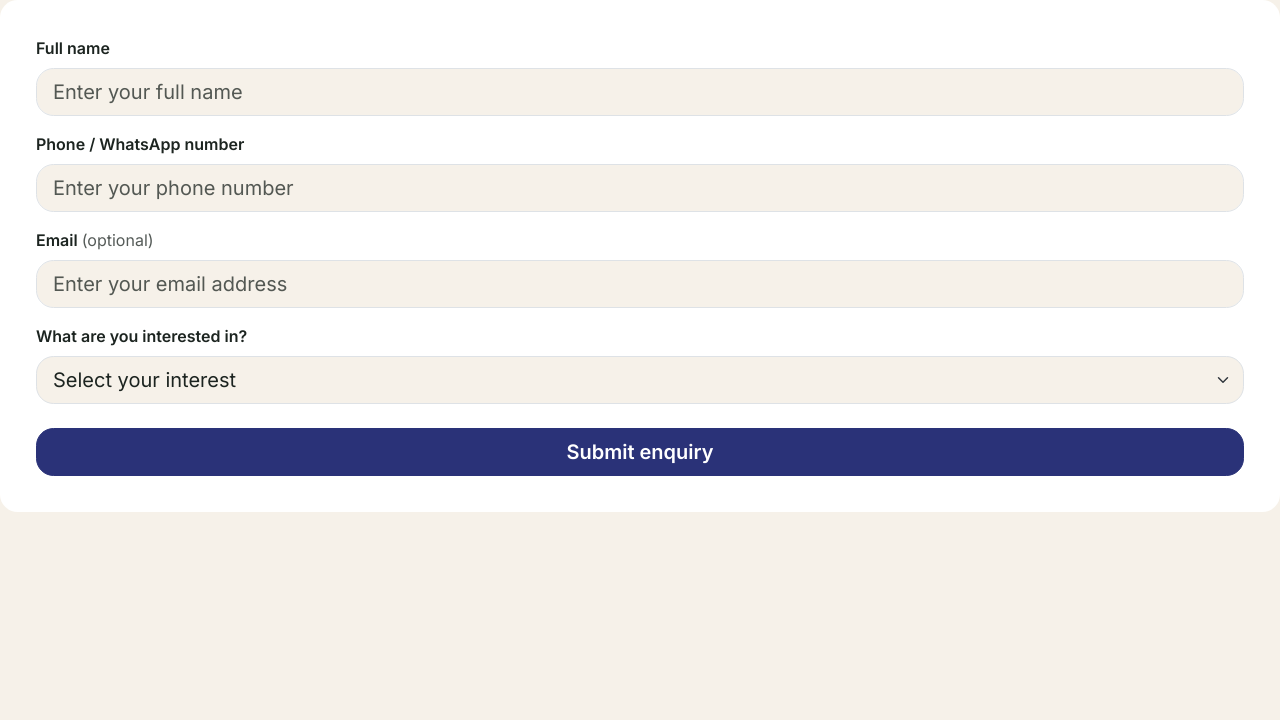
it: EnquiryForm › shows validation errors and does not submit invalid data
Click the button "Submit enquiry": [640, 452] box top-left (36, 428), bottom-right (1244, 476)
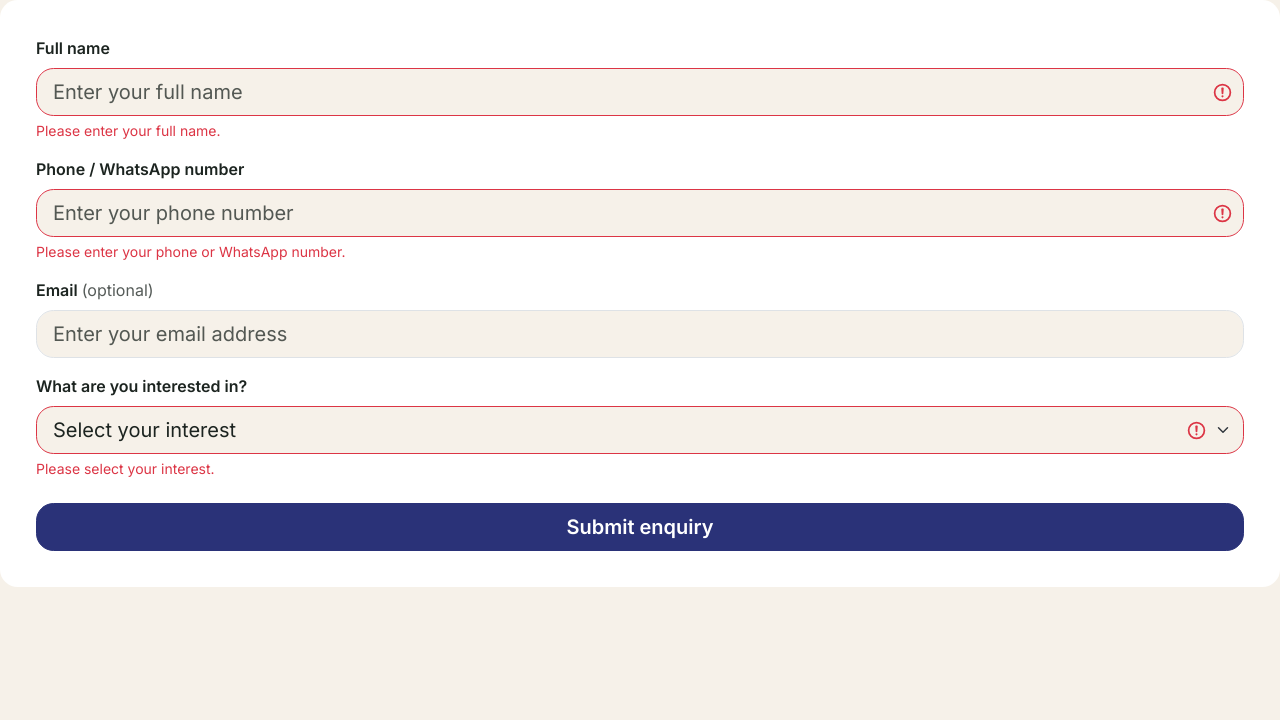
expect the text "Please enter your full name." is shown: met, box top-left (36, 122), bottom-right (220, 139)
expect the text "Please enter your phone or WhatsApp number." is shown: met, box top-left (36, 243), bottom-right (345, 260)
expect the text "Please select your interest." is shown: met, box top-left (36, 460), bottom-right (215, 477)
